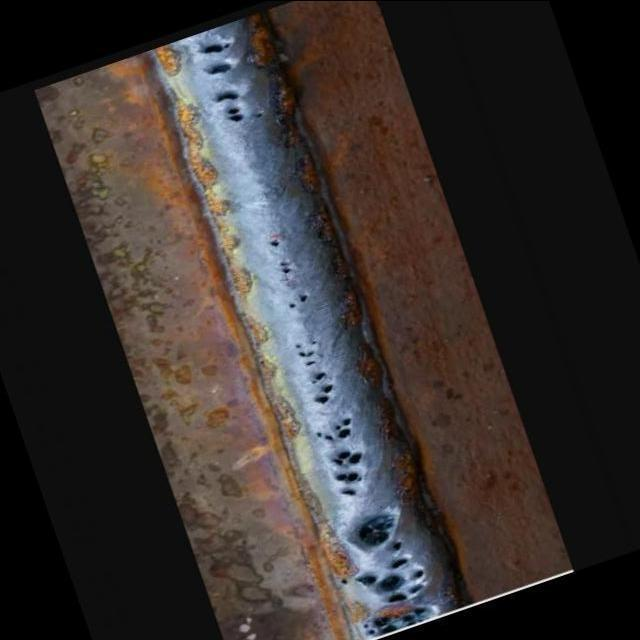defect: (336, 507, 432, 606), (361, 605, 431, 637), (212, 88, 266, 125), (312, 413, 355, 442), (309, 368, 337, 409), (292, 338, 319, 368), (329, 448, 368, 466), (194, 40, 234, 55), (204, 61, 236, 76), (333, 471, 365, 486), (286, 290, 308, 311), (276, 260, 295, 276), (339, 488, 357, 498), (267, 237, 281, 249)
